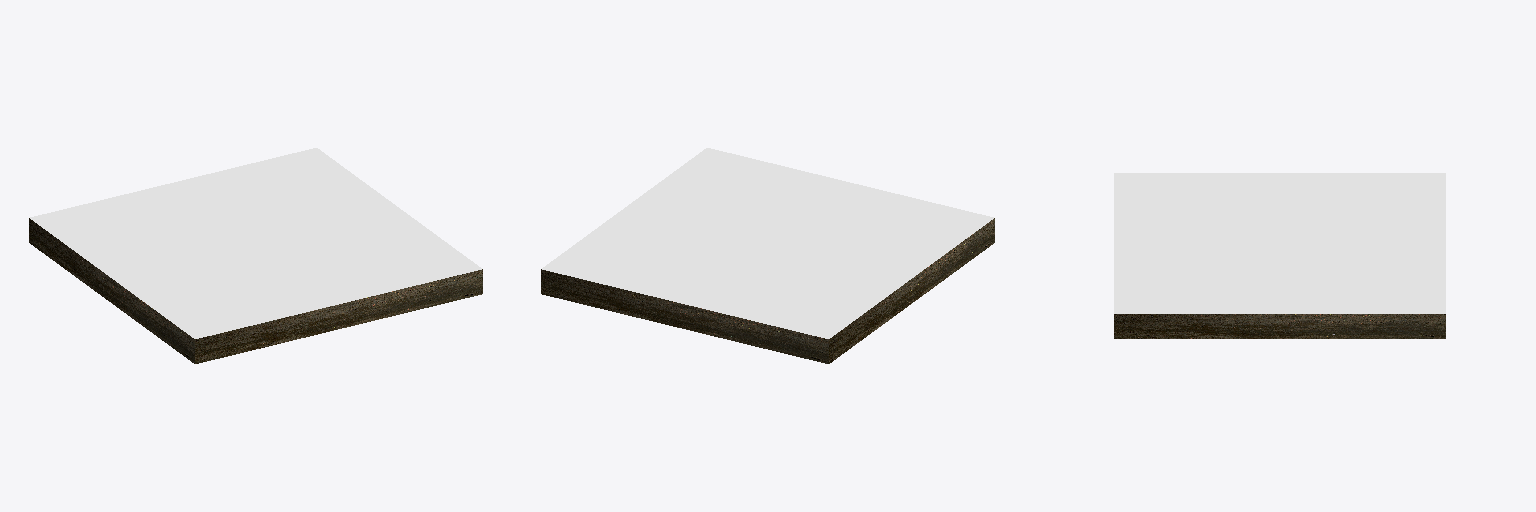
The picture shows the model from 3 angles: view 1: azimuth 30°, elevation 25°; view 2: azimuth 150°, elevation 25°; view 3: azimuth 270°, elevation 25°; orthographic projection.
Parts seen in each view (by area): view 1: object_2, object_6, object_5; view 2: object_2, object_4, object_5; view 3: object_2, object_3.
Part boxes in pixels (bbox=[...]): object_2: bbox=[30, 148, 481, 338]; object_6: bbox=[195, 269, 482, 363]; object_5: bbox=[29, 218, 194, 363]; object_2: bbox=[542, 148, 993, 338]; object_4: bbox=[541, 269, 828, 363]; object_5: bbox=[829, 218, 994, 363]; object_2: bbox=[1114, 173, 1445, 313]; object_3: bbox=[1114, 314, 1445, 338].
Bounding box in the file's own units: 1.82 × 0.1503 × 1.82.
Materials: 2 (1 with a texture image).